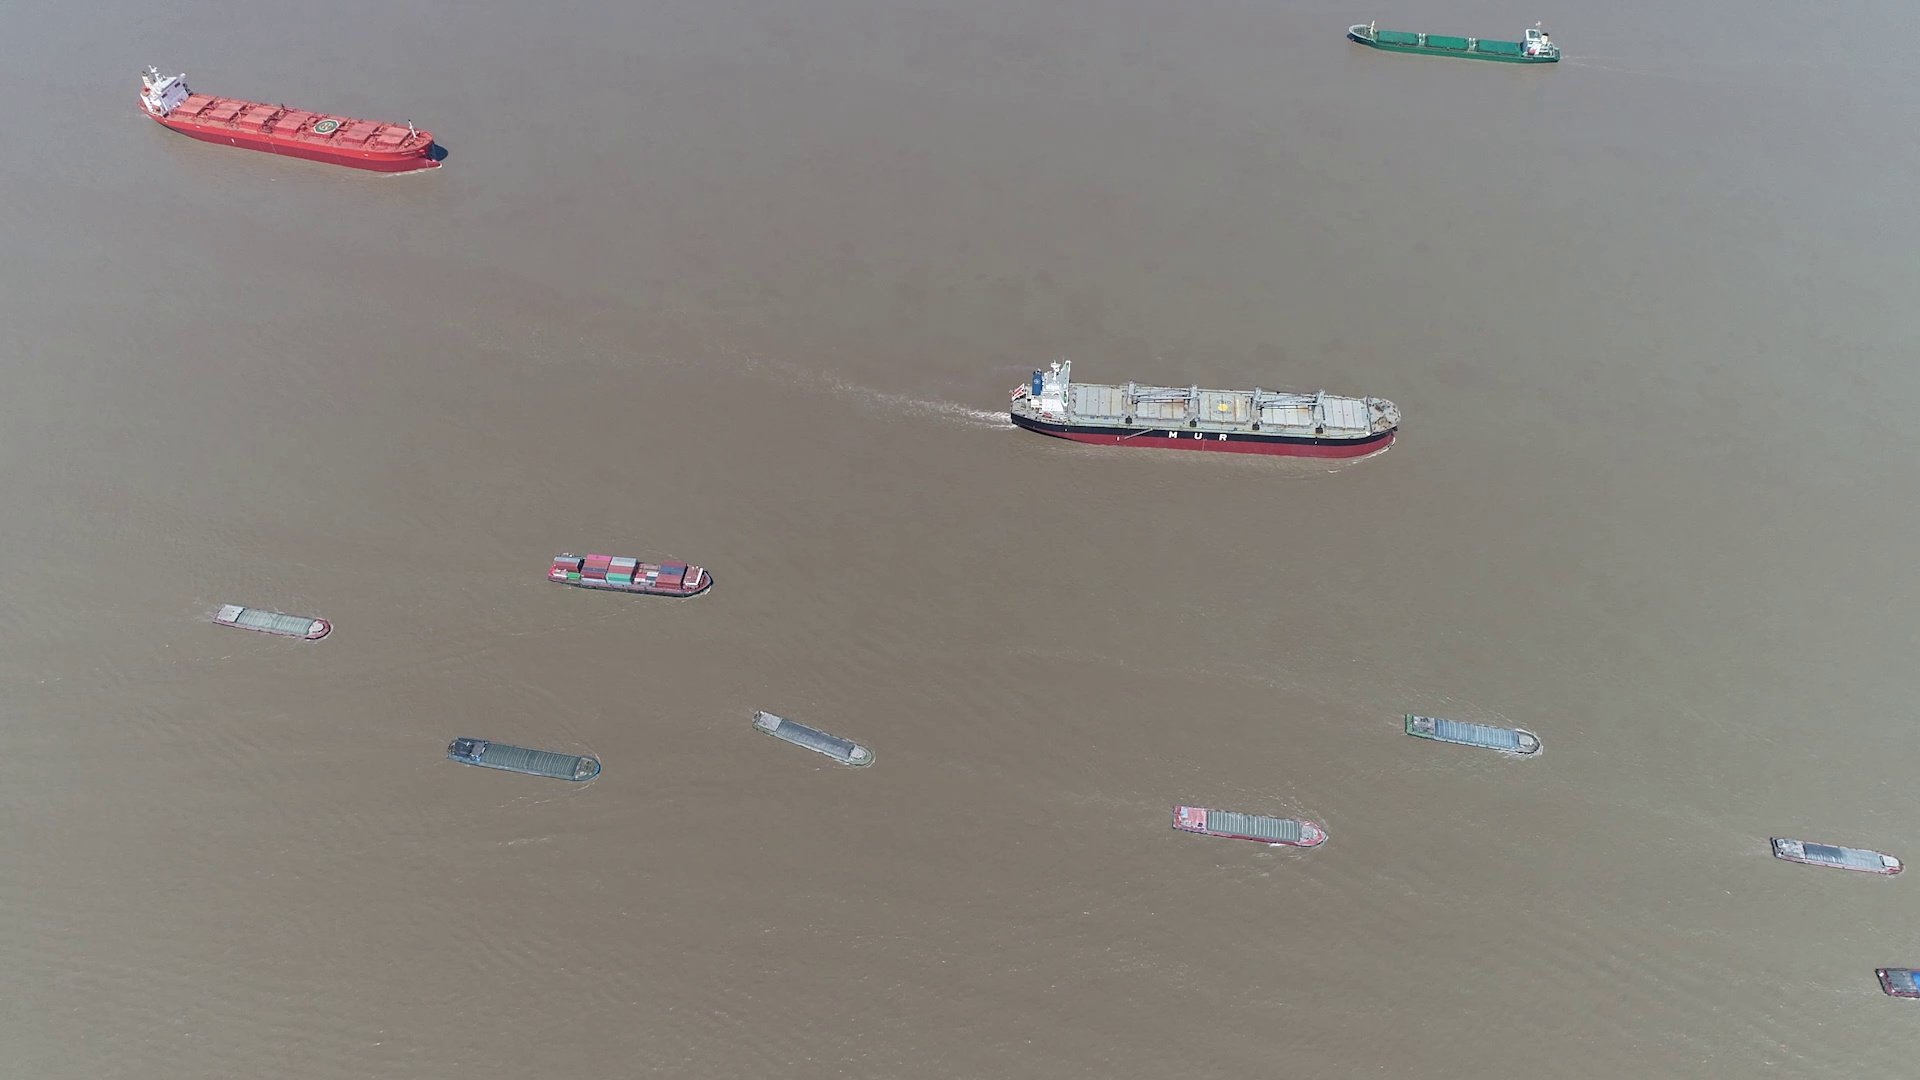ship: (1009, 361, 1399, 460), (141, 65, 443, 170), (1345, 21, 1560, 63), (547, 553, 716, 597), (447, 737, 604, 785), (756, 709, 874, 771), (1174, 806, 1324, 848), (1402, 713, 1542, 756), (1771, 836, 1903, 876), (212, 603, 332, 641), (1876, 967, 1919, 1000)
